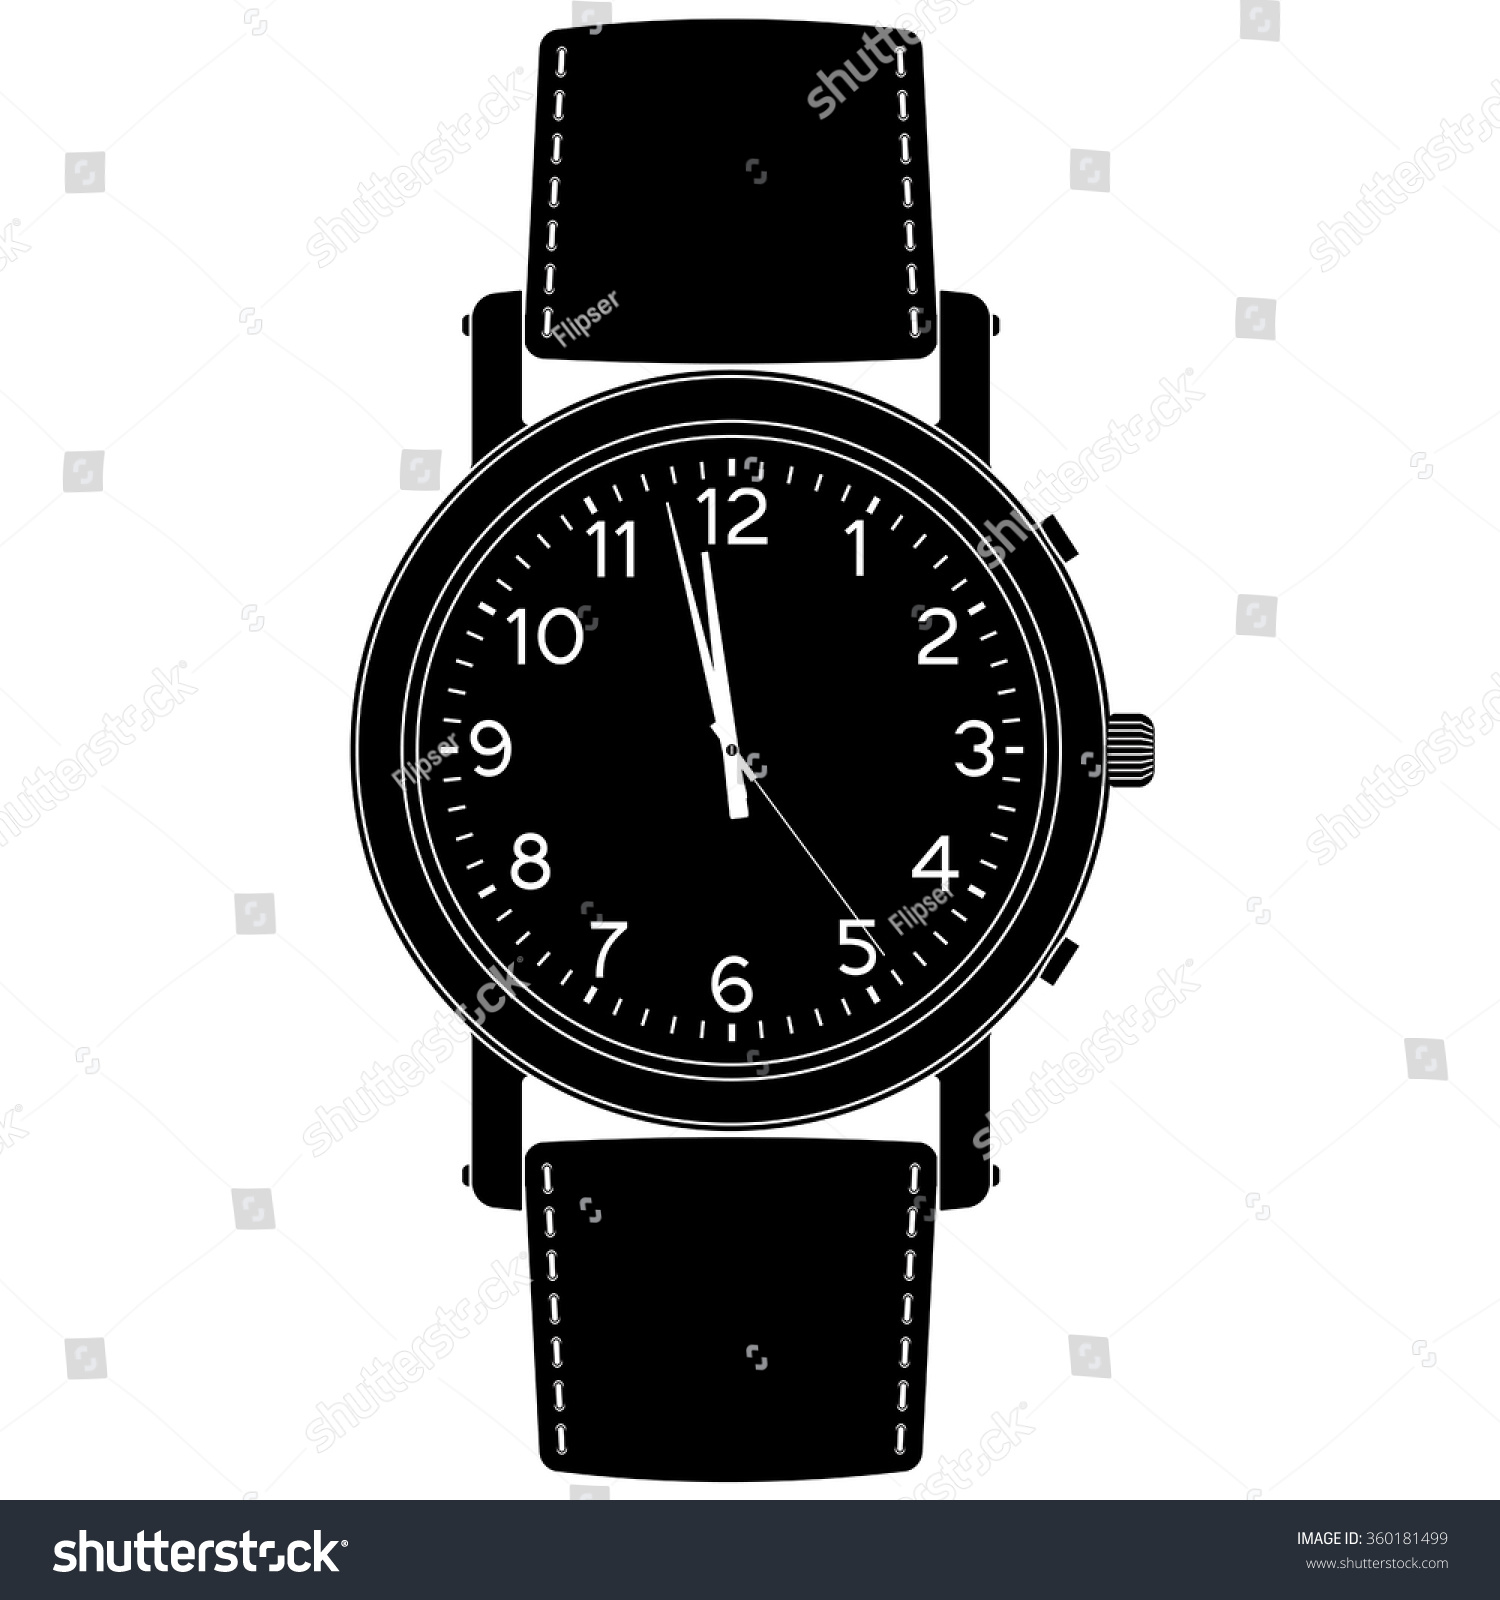clock: (409, 429, 1060, 1074)
